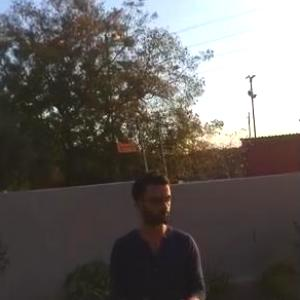follow: (104, 159, 219, 299)
